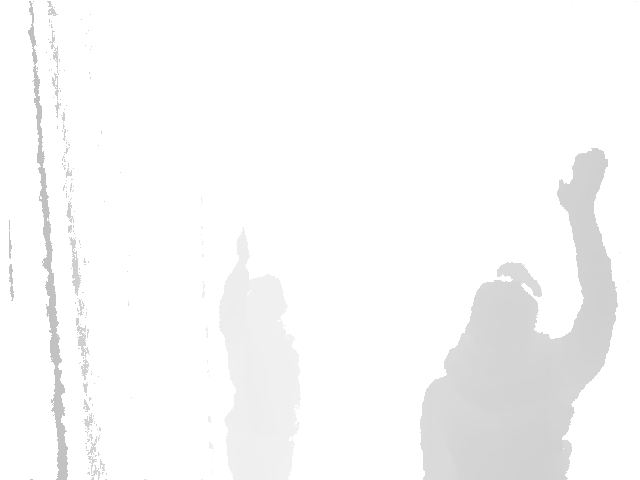hand: (553, 144, 611, 212), (233, 223, 250, 266)
head: (464, 263, 542, 344), (243, 274, 288, 330)
person: (419, 147, 618, 480), (221, 219, 306, 480)
